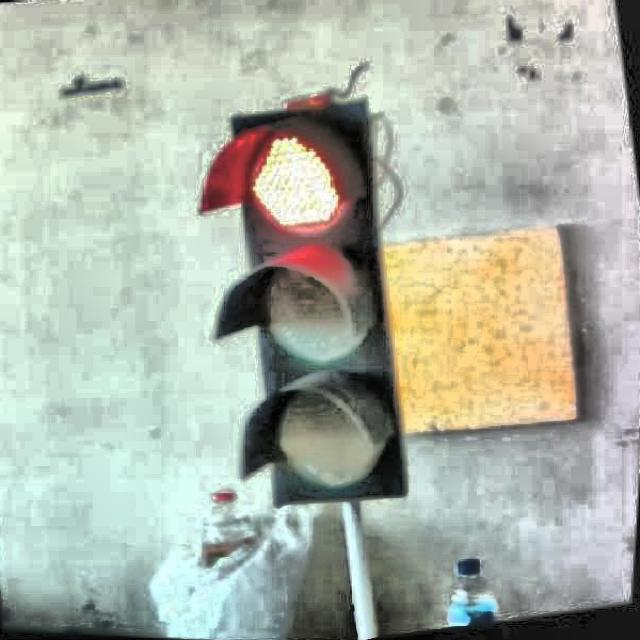red: (237, 96, 373, 515)
